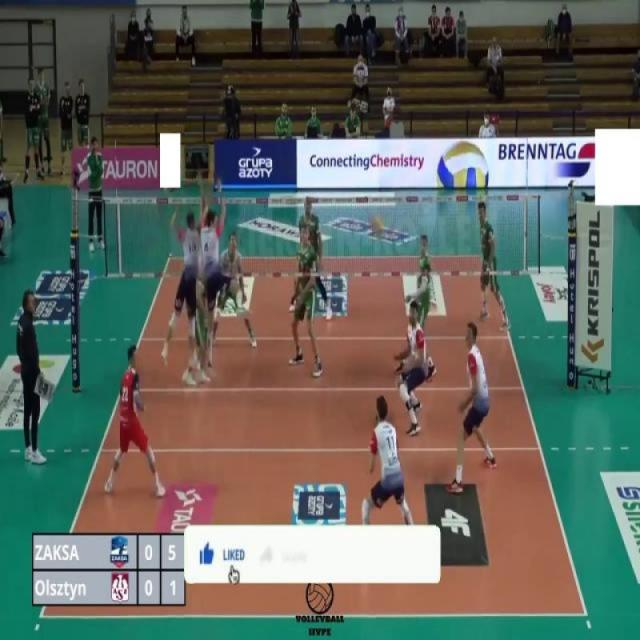volleyball: (434, 139, 490, 188), (368, 210, 385, 242)
